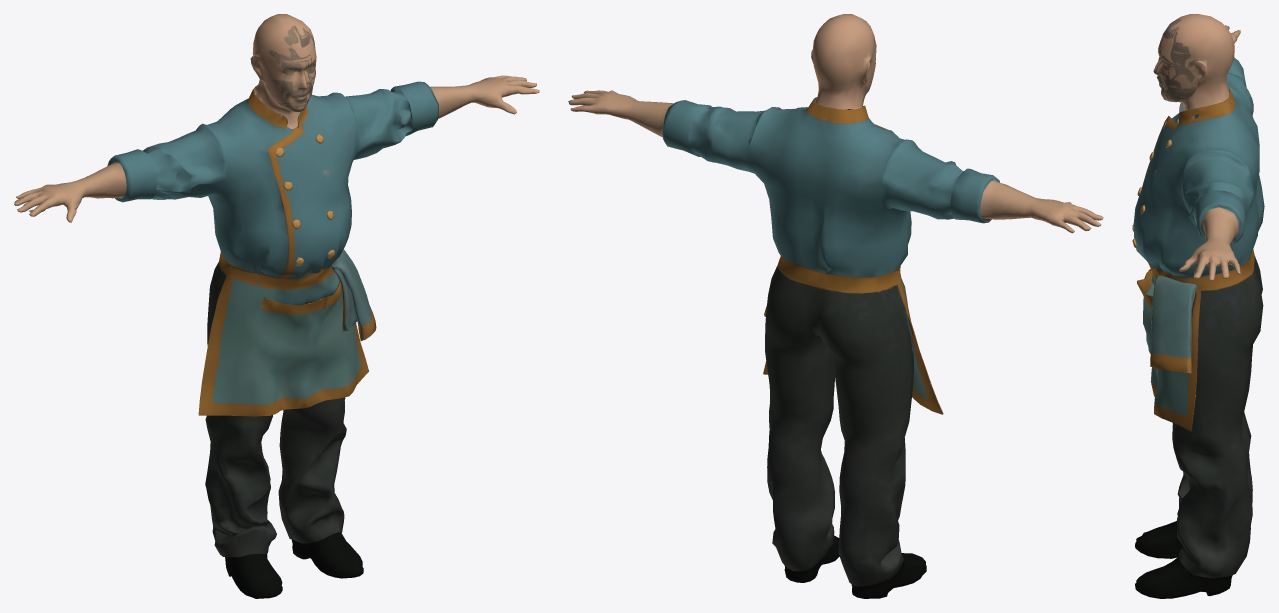
Rendered from raw-dimitri.glb.
3 views of the same model, side by side, from view 1: azimuth 30°, elevation 25°; view 2: azimuth 150°, elevation 25°; view 3: azimuth 270°, elevation 25° (orthographic).
Visible parts, largest first — view 1: geometry_0; view 2: geometry_0; view 3: geometry_0.
Boxes of the visible parts, <box> form: geometry_0: <box>14,14,539,598</box>; geometry_0: <box>568,14,1103,598</box>; geometry_0: <box>1132,14,1264,598</box>.
Bounding box in the file's own units: 0.9341 × 0.9502 × 0.2041.
1 material, 1 textured.
